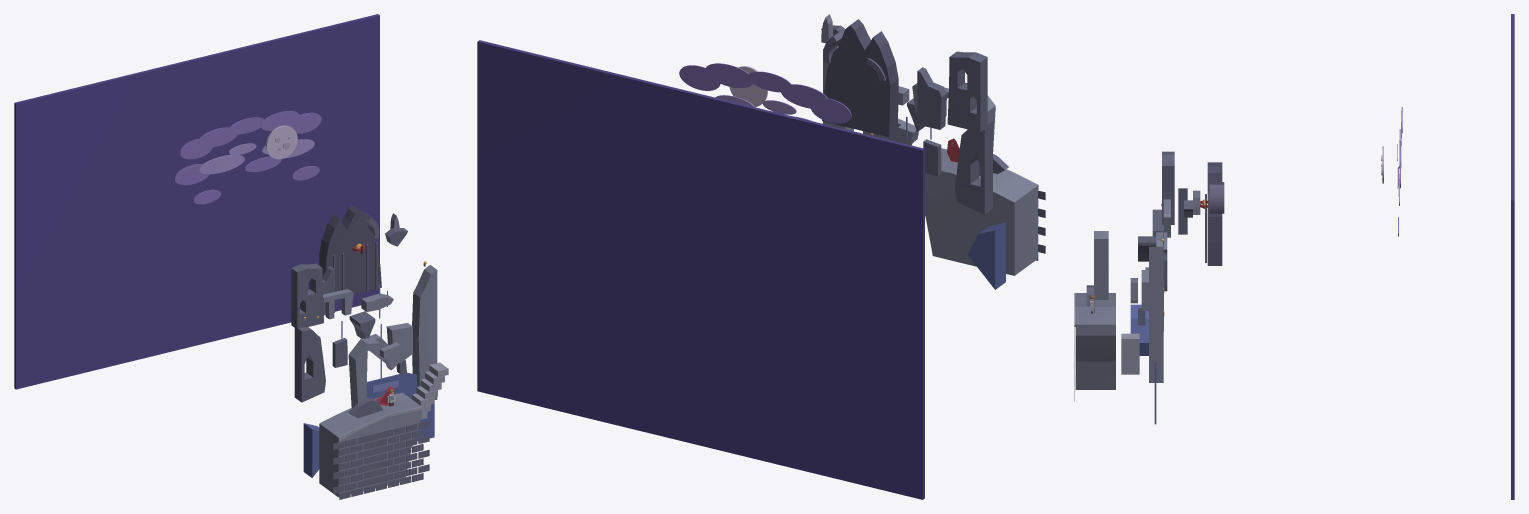
File: pixelbuddy_scene.glb
The picture shows the model from 3 angles, left to right: view 1: azimuth 30°, elevation 25°; view 2: azimuth 150°, elevation 25°; view 3: azimuth 270°, elevation 25°; orthographic projection. The views are drawn at different scales.
Parts seen in each view (by area): view 1: geometry_0; view 2: geometry_0; view 3: geometry_0.
Part boxes in pixels (x1,y1,x2,y2): geometry_0: [14, 14, 448, 499]; geometry_0: [477, 14, 1045, 499]; geometry_0: [1074, 14, 1514, 499].
Bounding box in the file's own units: 24 × 18 × 23.96.
